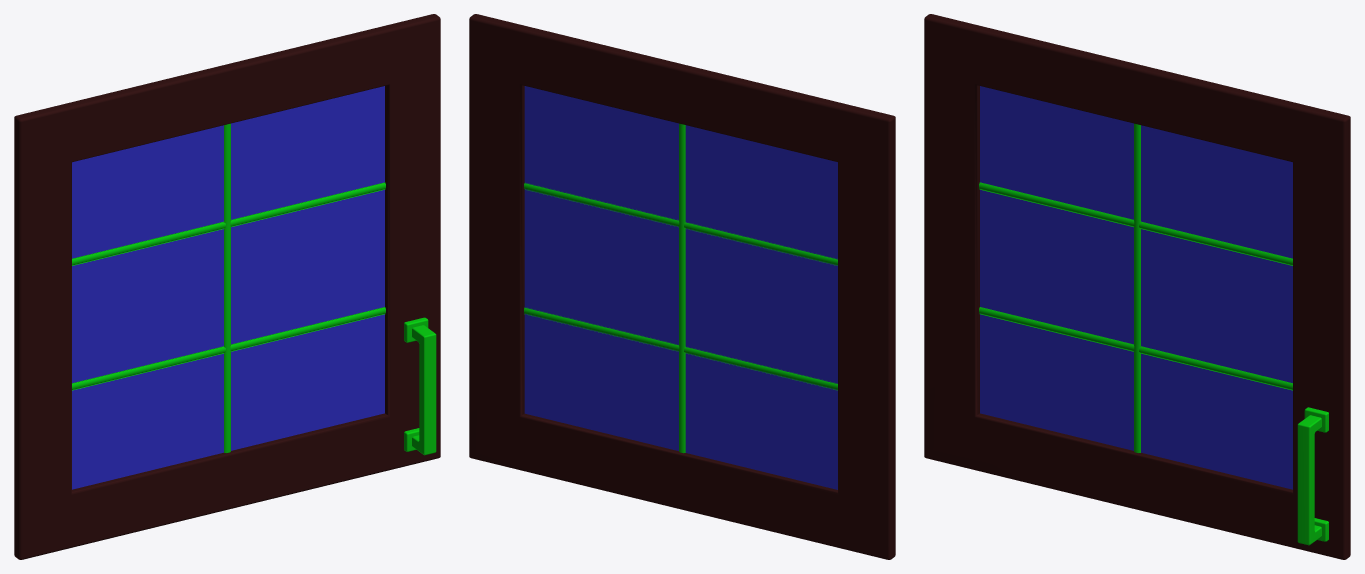
Rendered from kuchnia_03_szafka_wiszaca_drzwi.fbx.
3 renders of one model, left to right at view 1: azimuth 30°, elevation 25°; view 2: azimuth 150°, elevation 25°; view 3: azimuth 330°, elevation 25°, orthographic.
Visible parts, largest first — view 1: Mesh; view 2: Mesh; view 3: Mesh.
Boxes of the visible parts, left/top/right/bottom form: Mesh: left=14, top=14, right=440, bottom=559; Mesh: left=469, top=14, right=895, bottom=559; Mesh: left=924, top=14, right=1350, bottom=559.
Bounding box in the file's own units: 100 × 99.92 × 9.01.
